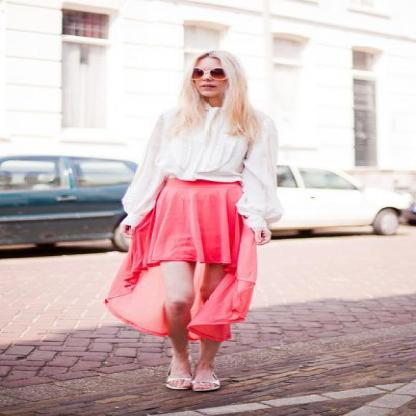shirt: (122, 103, 286, 224)
shoe: (166, 358, 218, 390)
skirt: (103, 176, 268, 340)
sunglass: (193, 69, 224, 78)
